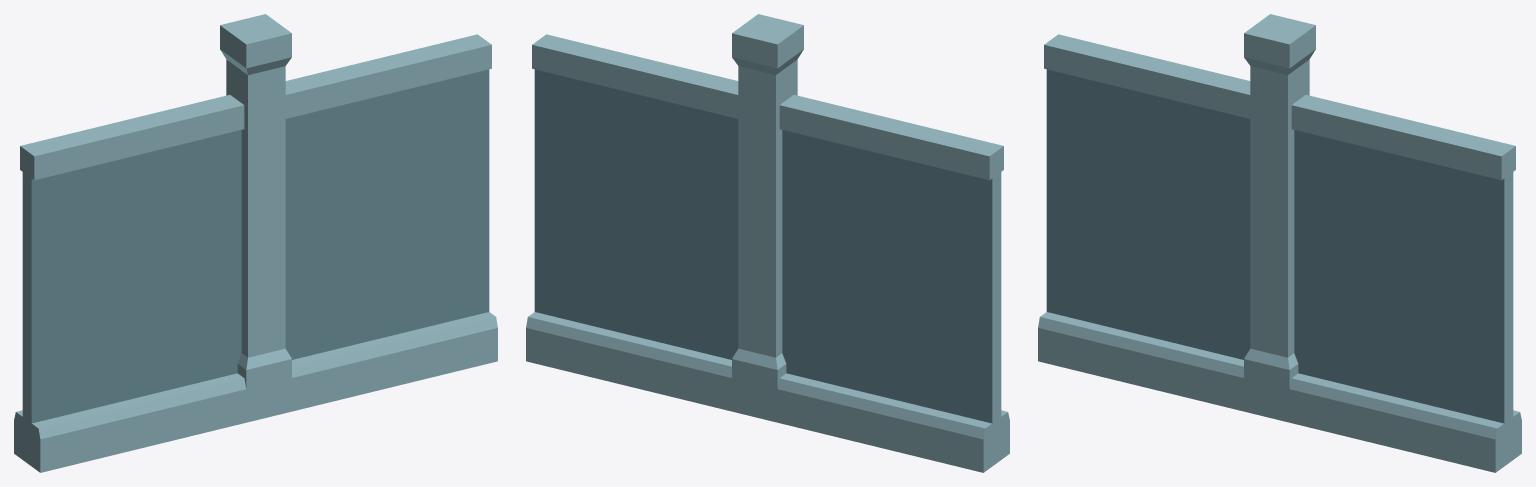
Rendered from stoneWallColumn.fbx.
3 renders of one model, left to right at view 1: azimuth 30°, elevation 25°; view 2: azimuth 150°, elevation 25°; view 3: azimuth 330°, elevation 25°, orthographic.
Parts seen in each view (by area): view 1: stoneWallColumn; view 2: stoneWallColumn; view 3: stoneWallColumn.
Boxes of the visible parts, x1,y1,x2,y2 form: stoneWallColumn: (14,14,497,472); stoneWallColumn: (526,14,1009,472); stoneWallColumn: (1038,14,1521,472).
Bounding box in the file's own units: 10 × 7.9 × 1.
